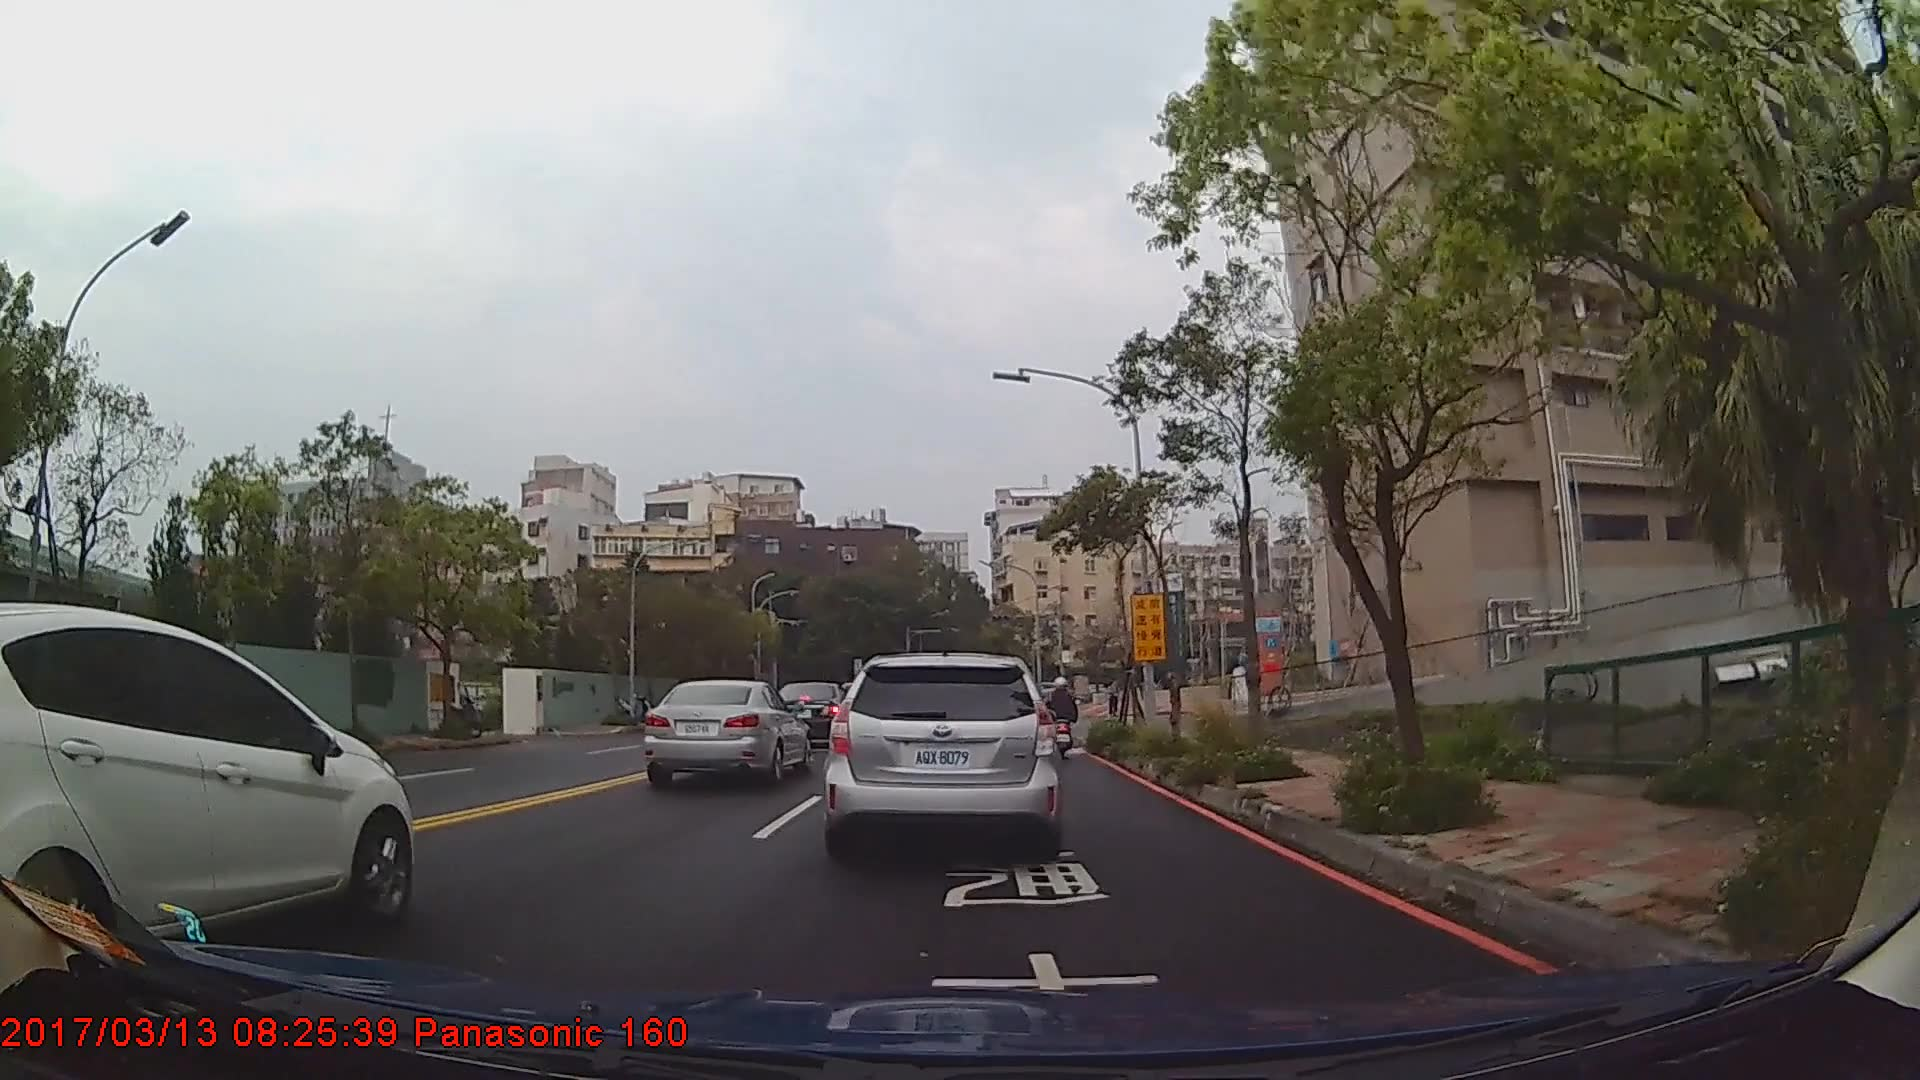rider: (1050, 678, 1081, 759)
vehicle: (0, 598, 416, 976), (825, 650, 1064, 848), (645, 677, 809, 787), (773, 679, 856, 746)
